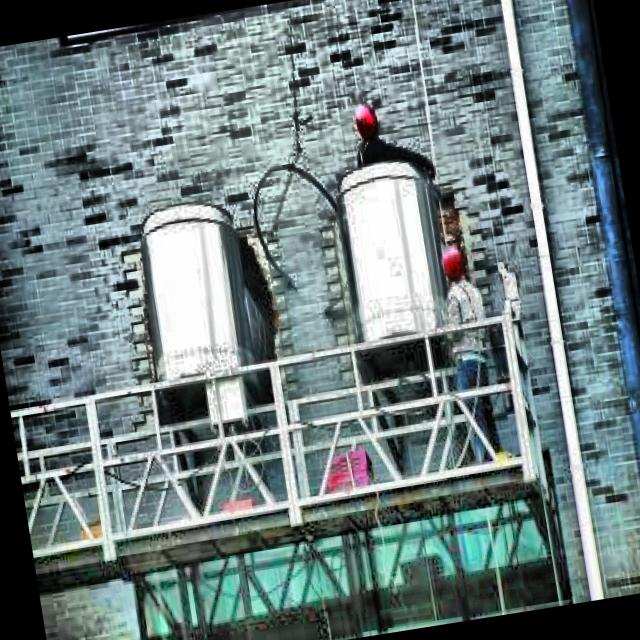helmet: (348, 98, 388, 148), (434, 241, 472, 291)
